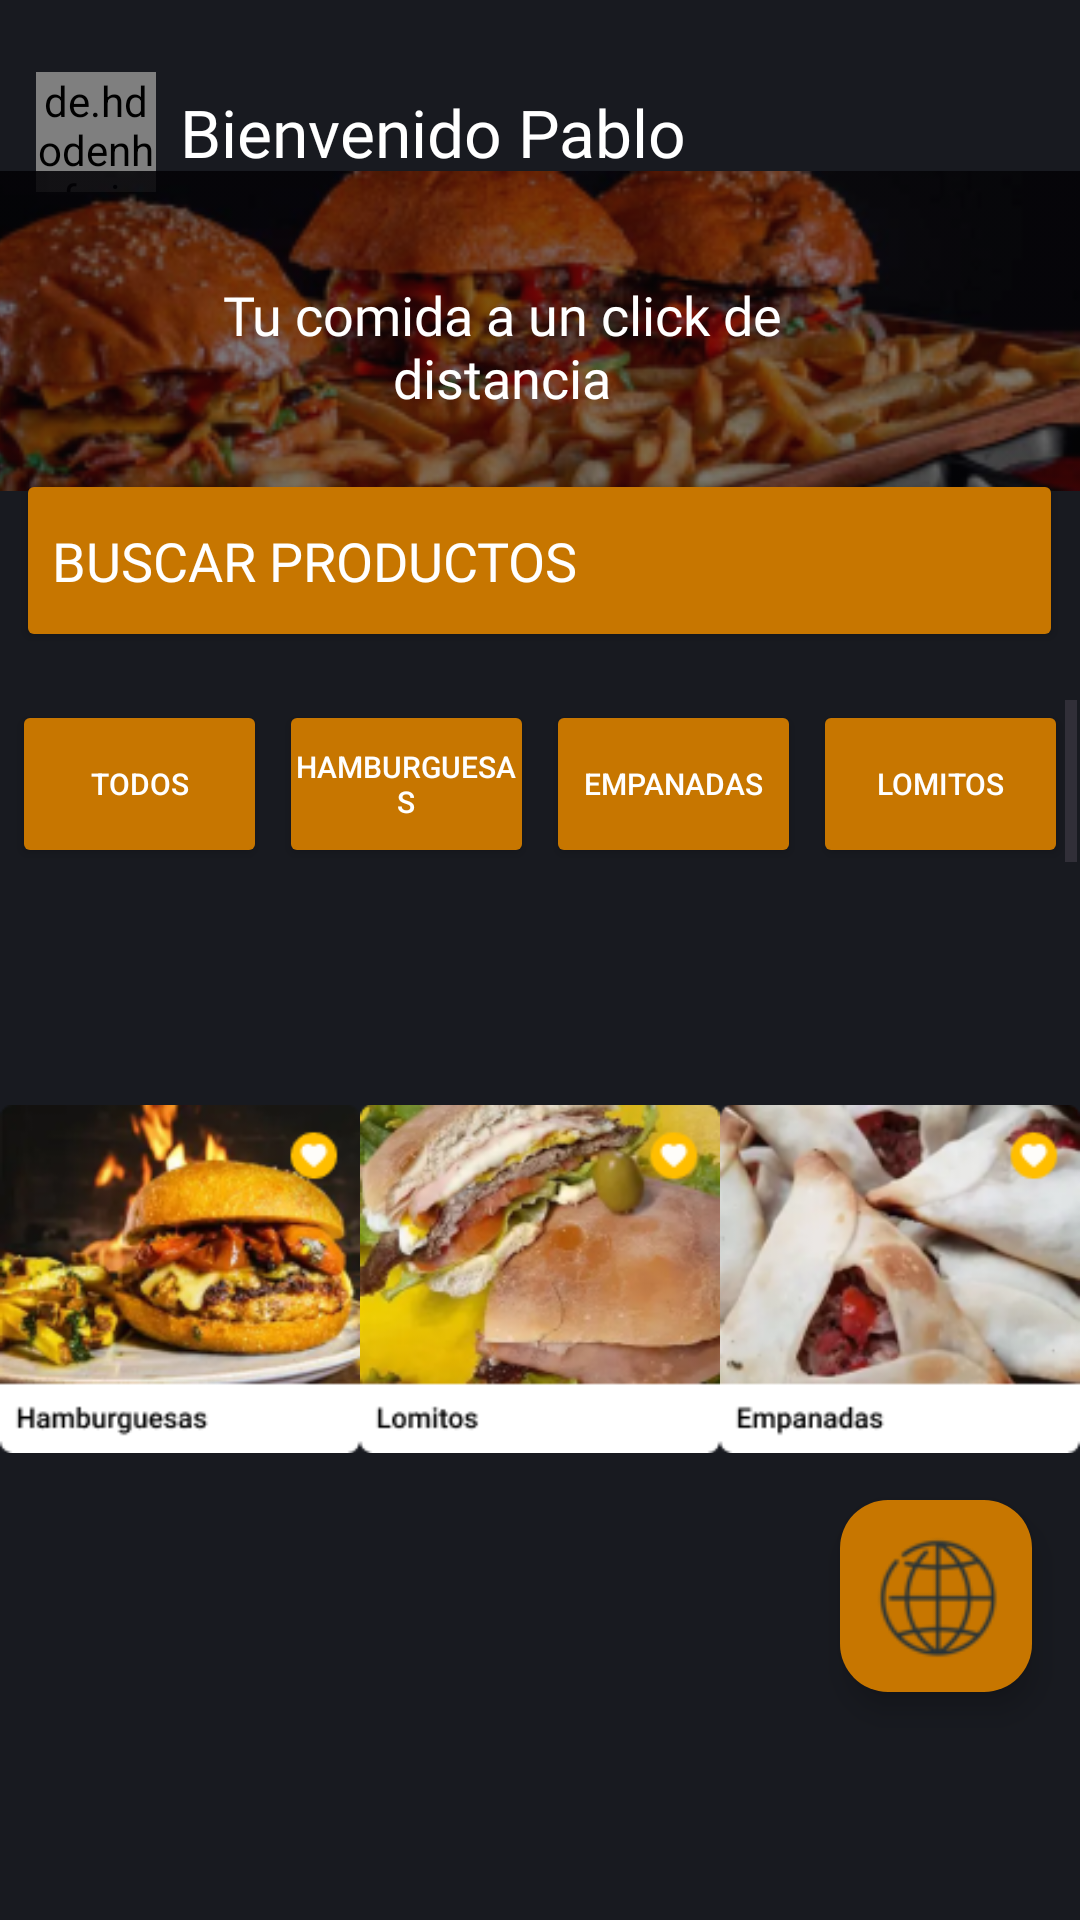

Icons on this 1080x1920 Android screen, each with its box as rect(x1, y1, x2, y2):
Ir a la página web: rect(840, 1500, 1032, 1692)
